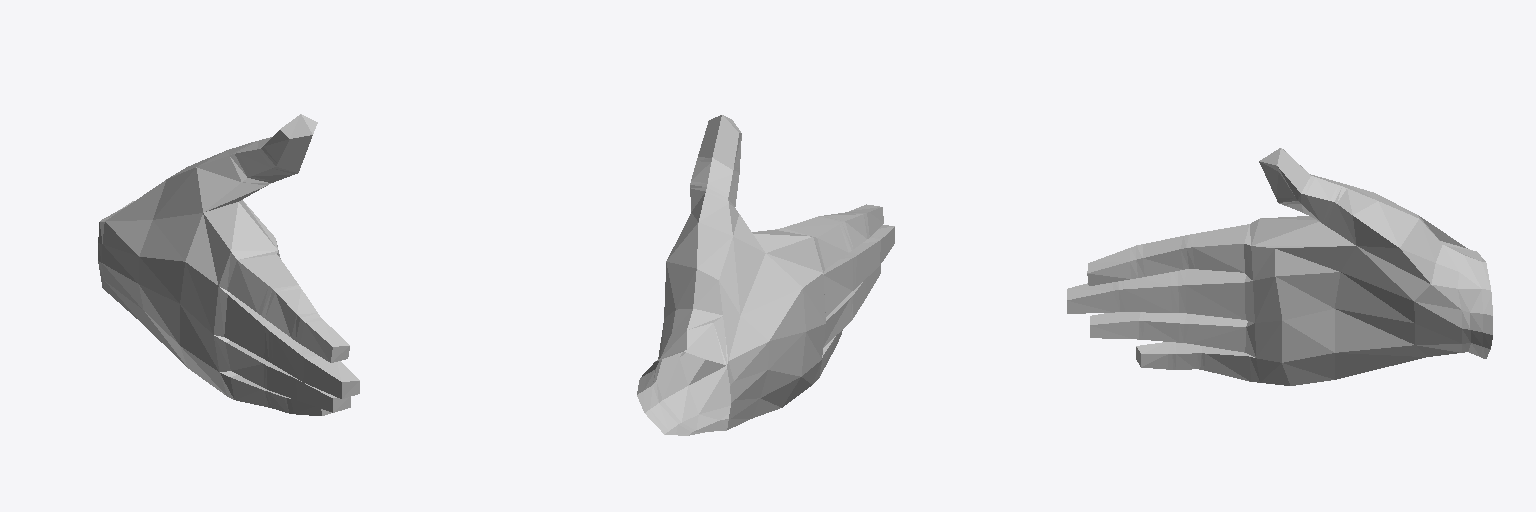
File: Hand.obj
3 renders of one model, left to right at view 1: azimuth 30°, elevation 25°; view 2: azimuth 150°, elevation 25°; view 3: azimuth 270°, elevation 25°, orthographic.
Parts seen in each view (by area): view 1: Cube.002; view 2: Cube.002; view 3: Cube.002.
Part boxes in pixels (bbox=[...]): Cube.002: bbox=[98, 114, 359, 415]; Cube.002: bbox=[637, 115, 894, 435]; Cube.002: bbox=[1067, 148, 1492, 385].
Size of the model in its own units: 0.8709 by 1.8 by 2.66.